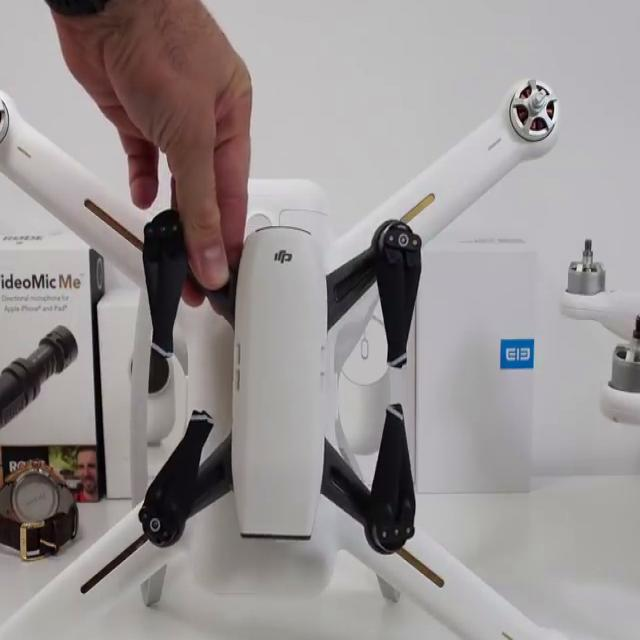drone: (0, 48, 605, 640), (548, 202, 640, 460)
